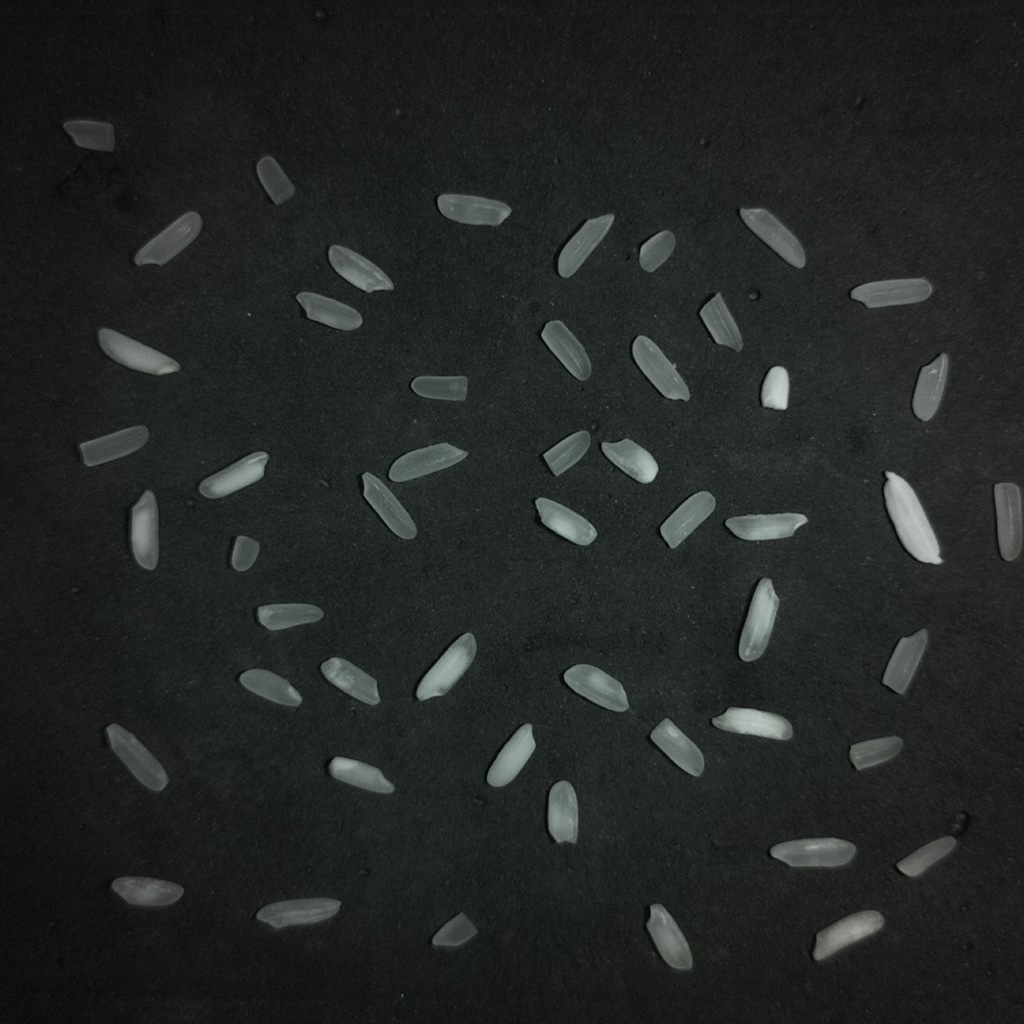broken: (650, 718, 704, 776), (563, 664, 628, 712), (882, 628, 929, 694), (320, 657, 379, 705), (896, 835, 957, 877), (699, 293, 742, 351), (239, 668, 301, 706), (110, 876, 183, 907), (544, 430, 590, 475), (256, 155, 294, 204), (849, 736, 903, 770), (256, 603, 323, 630), (431, 912, 477, 948), (63, 119, 114, 151), (639, 230, 675, 271), (410, 375, 467, 400), (230, 535, 260, 571)
chalky: (416, 632, 476, 700), (97, 328, 179, 374), (812, 910, 884, 960), (738, 578, 778, 661), (198, 451, 268, 498), (486, 723, 535, 787), (646, 904, 691, 970), (535, 498, 596, 545), (711, 706, 791, 740), (601, 438, 657, 483), (328, 757, 394, 794), (129, 491, 158, 569), (725, 514, 807, 540), (547, 780, 578, 843), (760, 365, 789, 410)
foreign: (883, 471, 941, 563)
whole: (628, 331, 694, 409), (105, 724, 167, 791), (739, 208, 805, 268), (361, 473, 416, 539), (134, 211, 201, 265), (557, 214, 613, 277), (659, 491, 715, 548), (388, 442, 467, 481), (328, 245, 392, 292), (541, 320, 591, 380), (78, 426, 149, 466), (295, 291, 362, 330), (256, 897, 339, 928), (769, 838, 856, 867), (912, 353, 948, 421), (850, 278, 932, 307), (993, 482, 1023, 560), (436, 195, 510, 226)
